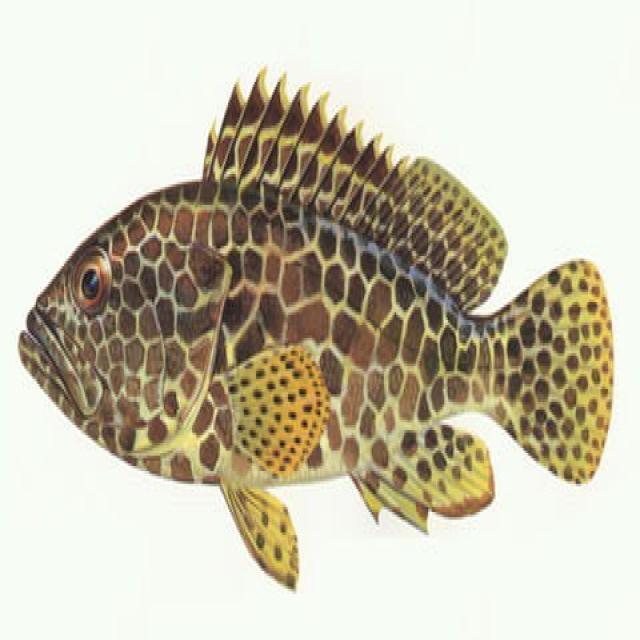ikan: (17, 61, 615, 592)
